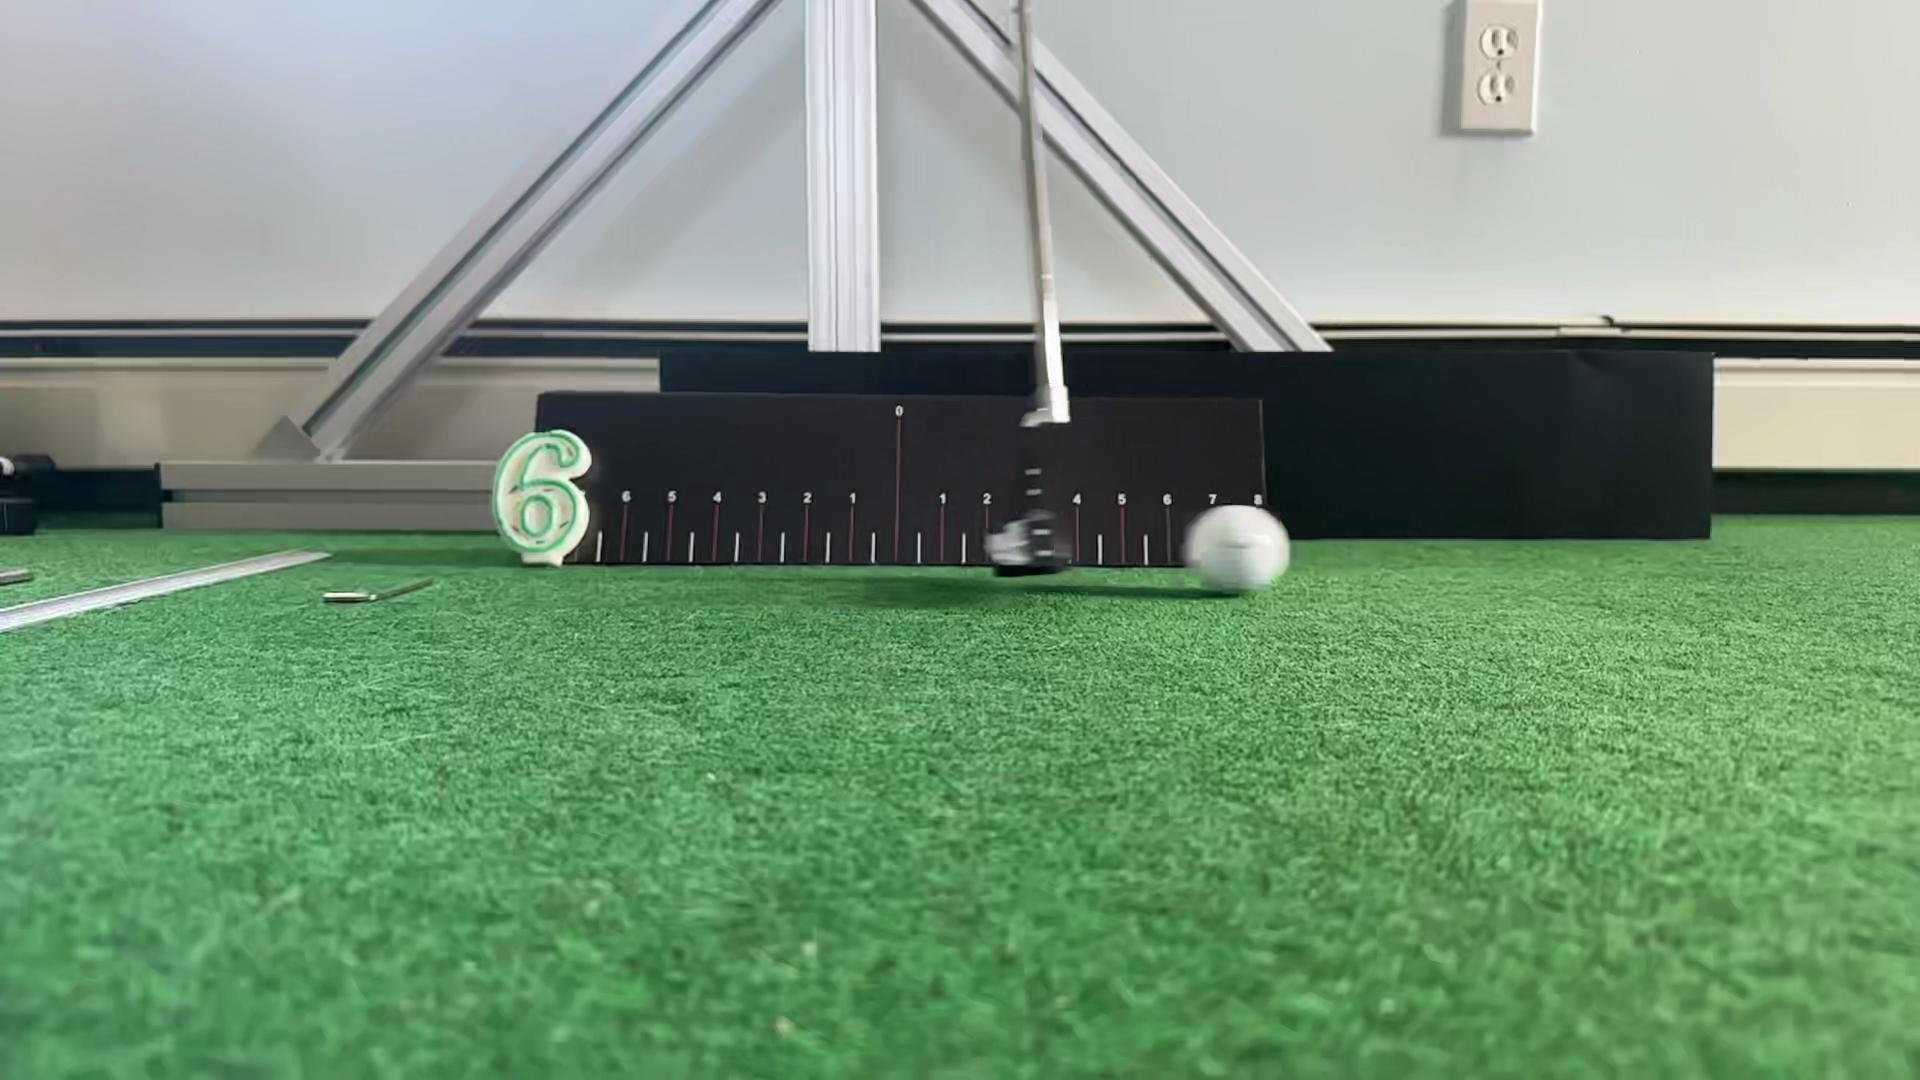golfball: (1188, 505, 1290, 595)
